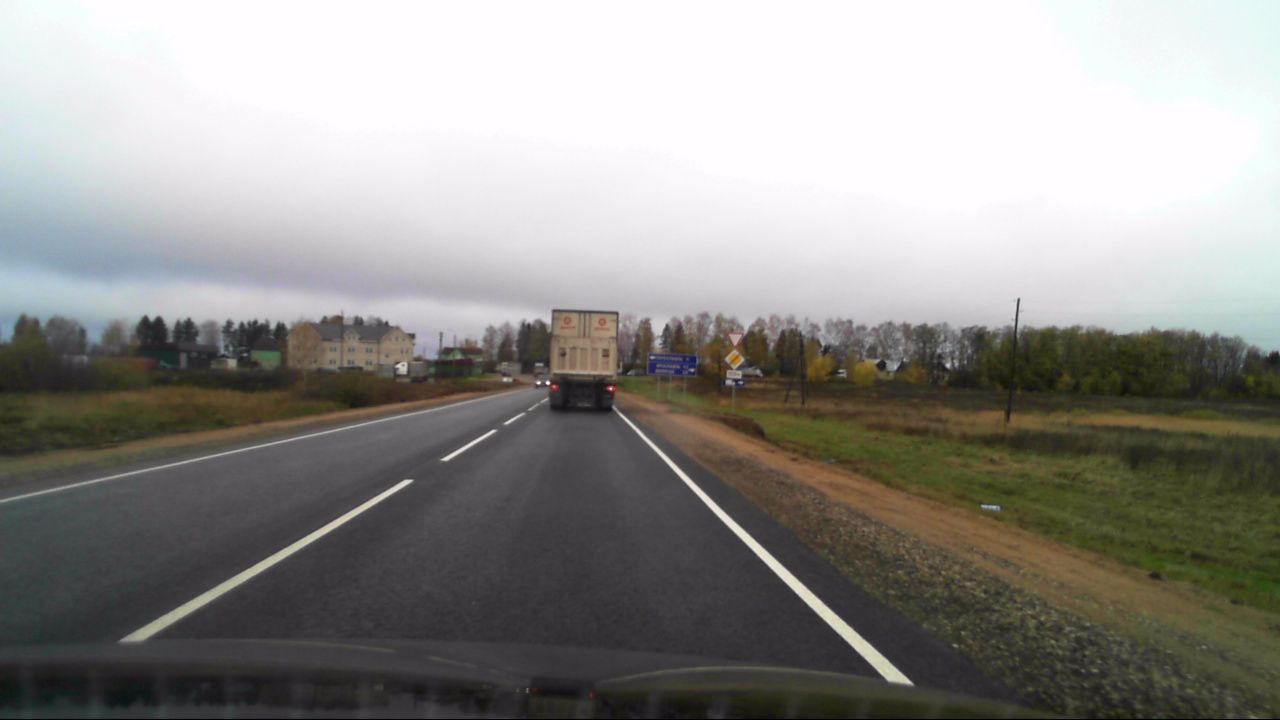main road: (723, 349, 744, 369)
